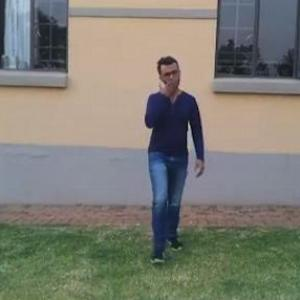follow: (139, 56, 196, 242)
